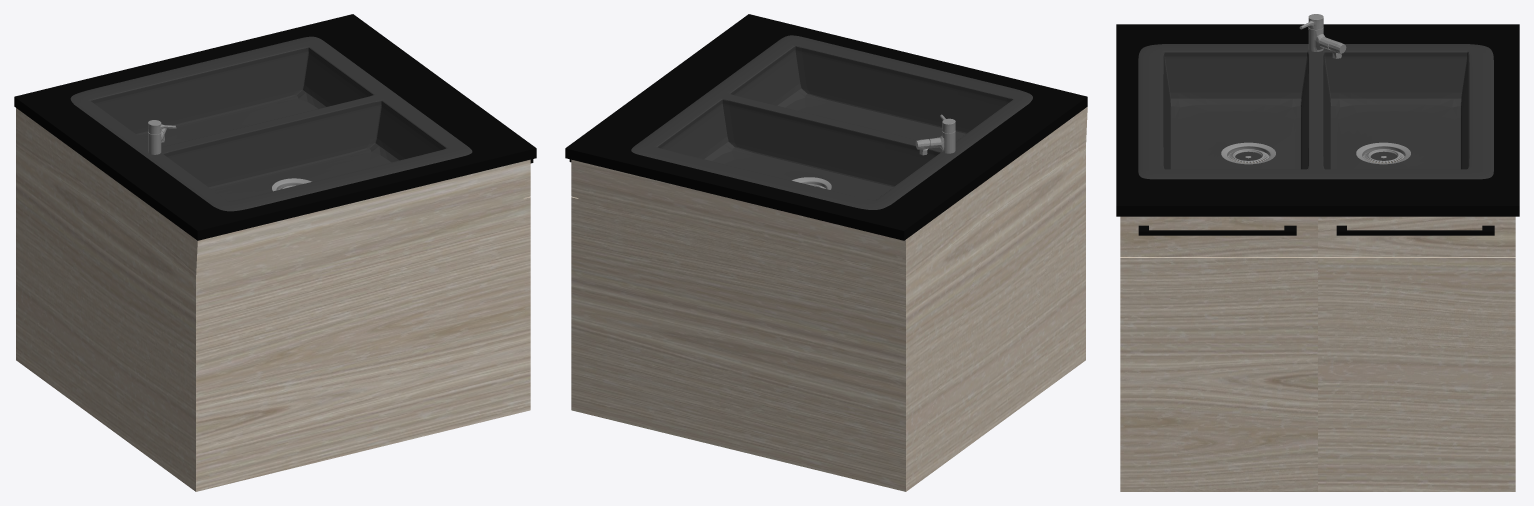
Rendered from closet_sink.gltf.
3 views of the same model, side by side, from view 1: azimuth 30°, elevation 25°; view 2: azimuth 150°, elevation 25°; view 3: azimuth 270°, elevation 25° (orthographic). The views are drawn at different scales.
Parts seen in each view (by area): view 1: closet_with_sink; view 2: closet_with_sink; view 3: closet_with_sink.
Part boxes in pixels (x1,y1,x2,y2): closet_with_sink: (14,14,536,491); closet_with_sink: (565,14,1087,491); closet_with_sink: (1116,14,1519,491).
Bounding box in the file's own units: 1.89 × 1.52 × 1.74.
5 materials, 2 textured.
